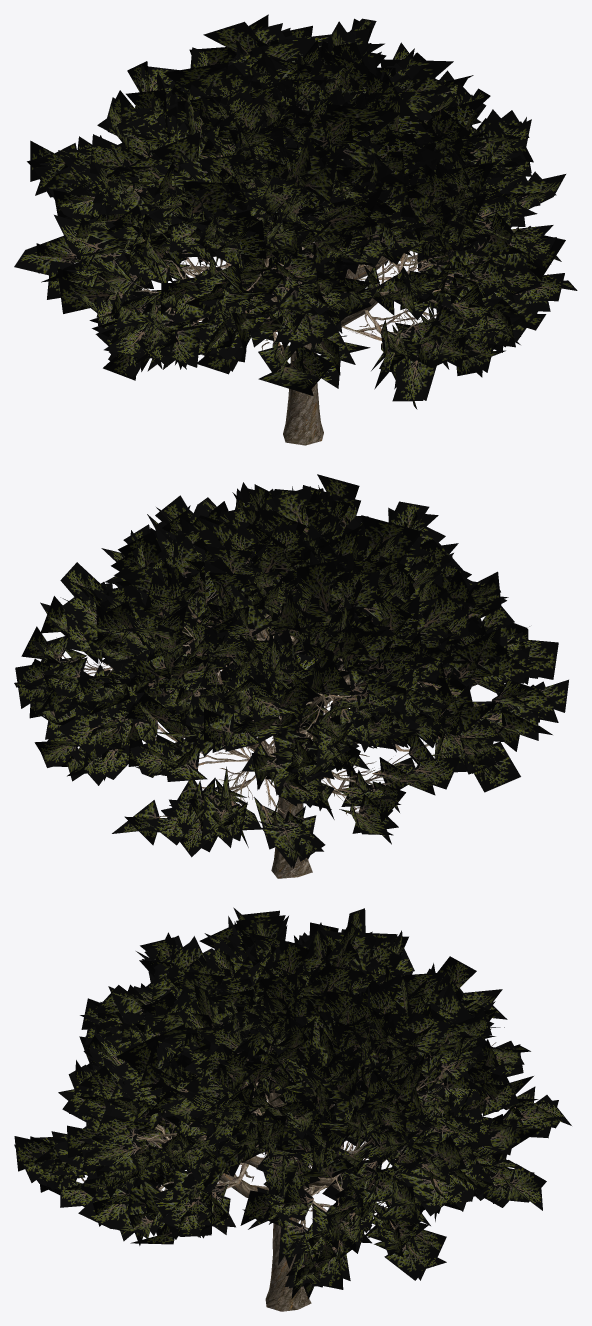
Rendered from tree.glb.
The picture shows the model from 3 angles, top to bottom: view 1: azimuth 30°, elevation 25°; view 2: azimuth 150°, elevation 25°; view 3: azimuth 270°, elevation 25°; orthographic projection. The views are drawn at different scales.
Visible parts, largest first — view 1: mesh_1, mesh_1.001, Object_4; view 2: mesh_1, mesh_1.001, Object_4; view 3: mesh_1, Object_4, mesh_1.001.
Boxes of the visible parts, bbox=[...] form: mesh_1: bbox=[14, 14, 577, 409]; mesh_1.001: bbox=[54, 96, 548, 372]; Object_4: bbox=[256, 220, 437, 445]; mesh_1: bbox=[14, 474, 568, 868]; mesh_1.001: bbox=[54, 560, 501, 831]; Object_4: bbox=[217, 581, 460, 878]; mesh_1: bbox=[14, 907, 571, 1298]; Object_4: bbox=[147, 1081, 369, 1311]; mesh_1.001: bbox=[78, 958, 515, 1268].
Bounding box in the file's own units: 84.53 × 64.82 × 87.65.
3 materials, 3 textured.
